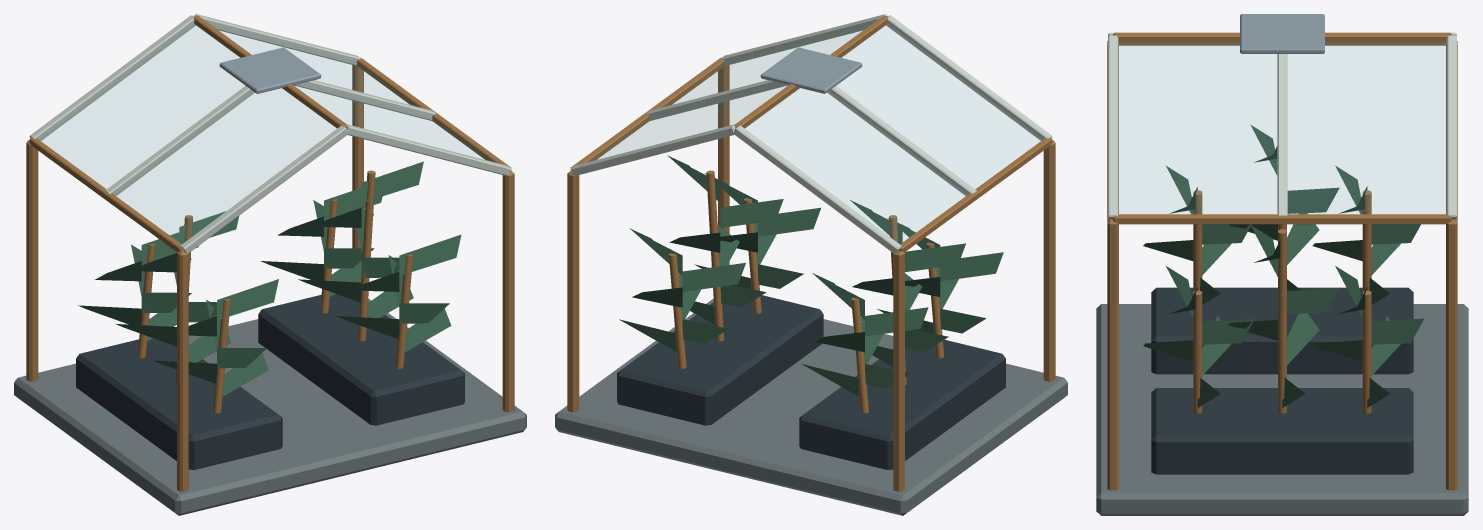
The model's file is glass-garden.lod0.glb.
3 renders of one model, left to right at view 1: azimuth 30°, elevation 25°; view 2: azimuth 150°, elevation 25°; view 3: azimuth 270°, elevation 25°, orthographic. The views are drawn at different scales.
Visible parts, largest first — view 1: structure, vent; view 2: structure, vent; view 3: structure, vent.
Boxes of the visible parts, left/top/right/bottom form: structure: left=14, top=14, right=526, bottom=515; vent: left=219, top=47, right=321, bottom=93; structure: left=555, top=14, right=1067, bottom=515; vent: left=760, top=47, right=862, bottom=93; structure: left=1096, top=32, right=1468, bottom=515; vent: left=1240, top=14, right=1324, bottom=53.
Bounding box in the file's own units: 5.4 × 5.09 × 4.4.
